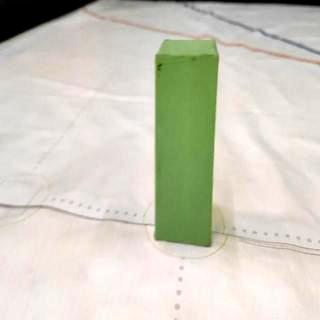greenbox: (155, 38, 220, 248)
